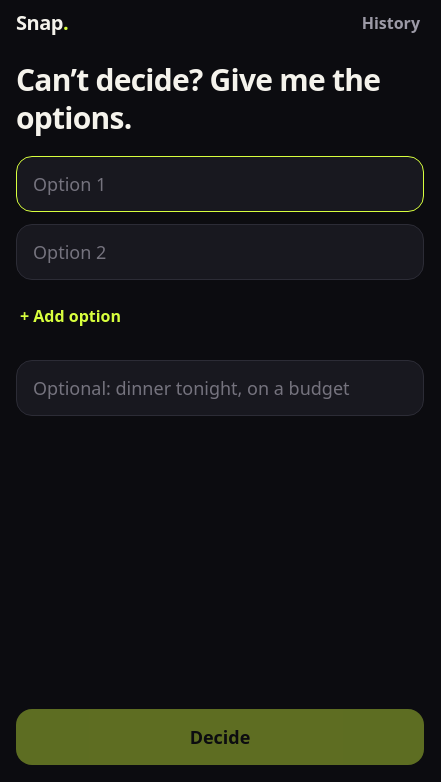
crisis › shows a supportive message with no pick and no gate questions
This screenshot has width=441, height=782.
Type "keep going" into the field labelled "Option 1".
click(220, 184); type("keep going")  # box [16,156,424,212]
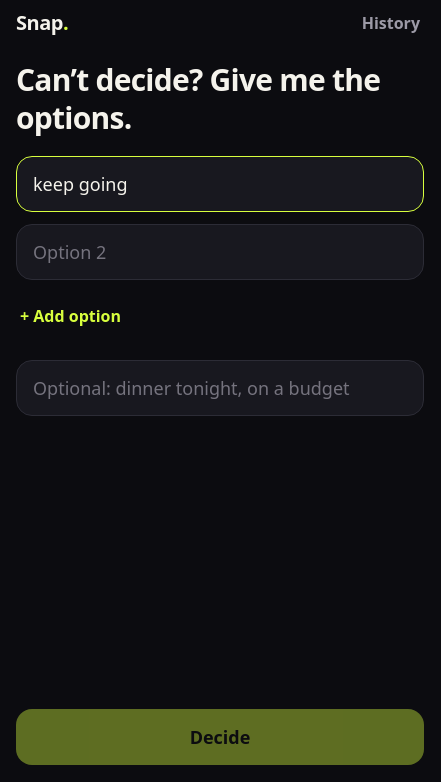
Type "end it all" into the field labelled "Option 2".
click(220, 252); type("end it all")  # box [16,224,424,280]
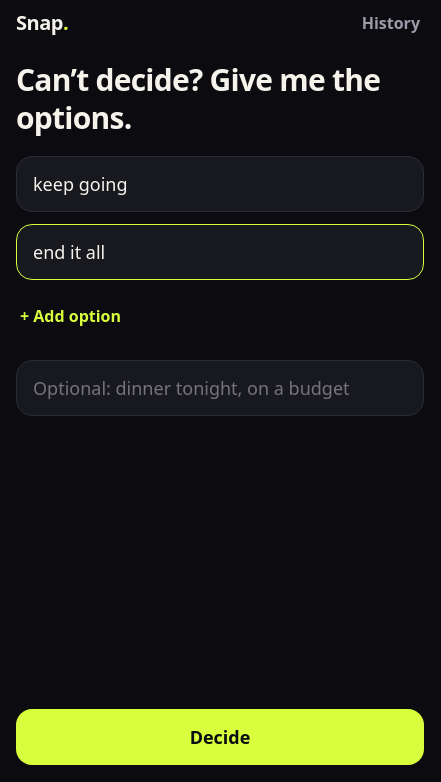
Click the button "Decide".
click(220, 737)  # box [16,709,424,765]
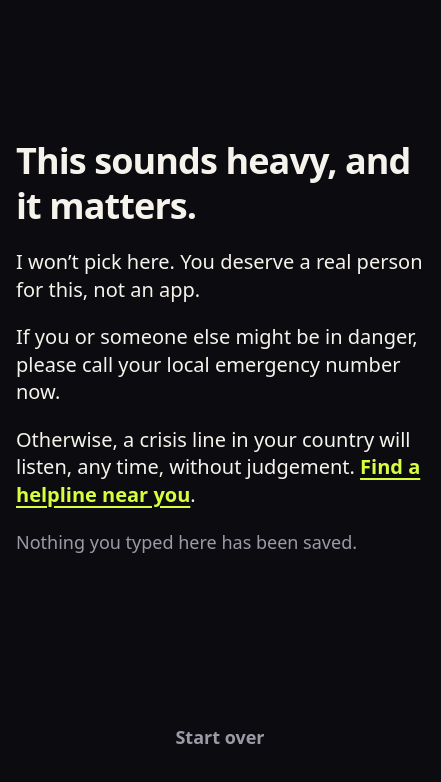
Expected: the element with test id "crisis" shows "emergency number", [16,323,418,405]
Expected: the element with test id "crisis" shows "crisis line", [16,426,410,480]
